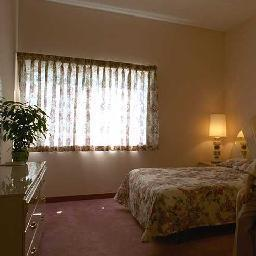Cama: (118, 157, 245, 238)
Ventana: (20, 58, 153, 146)
